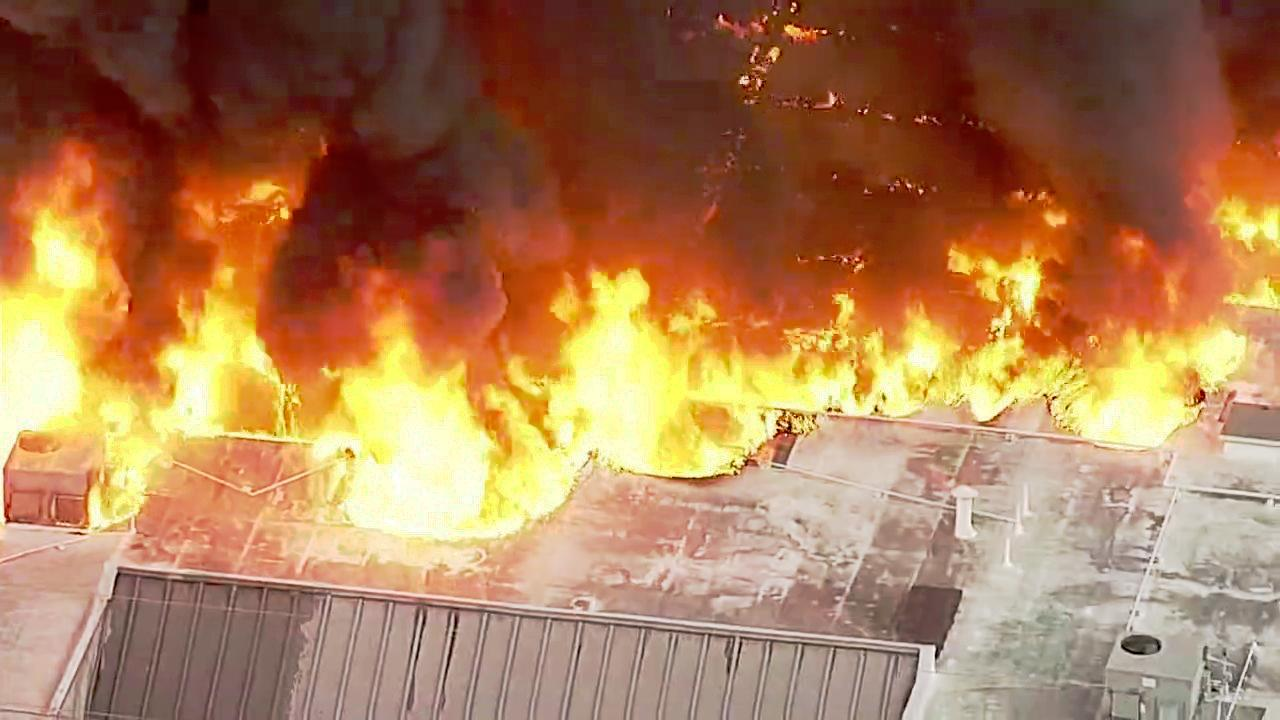fire: (0, 155, 125, 422), (152, 204, 292, 434), (545, 265, 684, 463), (329, 345, 475, 530), (1064, 290, 1211, 442)
smoke: (251, 2, 537, 199)
